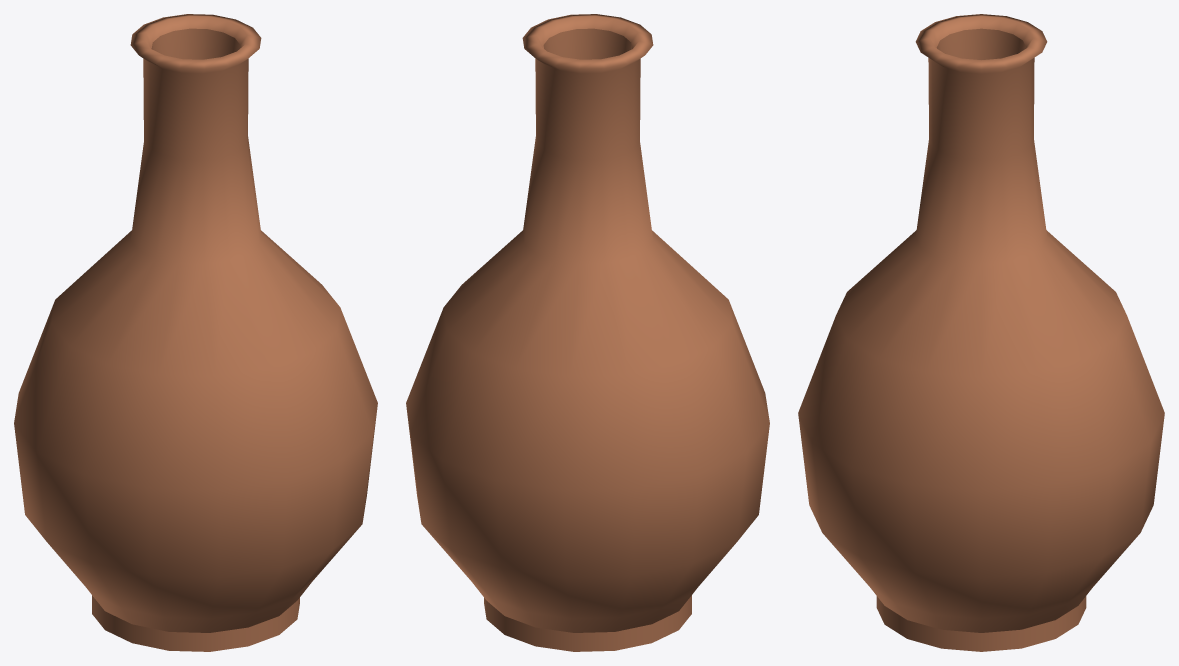
Rendered from Makkoli.fbx.
The picture shows the model from 3 angles, left to right: view 1: azimuth 30°, elevation 25°; view 2: azimuth 150°, elevation 25°; view 3: azimuth 270°, elevation 25°; orthographic projection.
Visible parts, largest first — view 1: Makkoli; view 2: Makkoli; view 3: Makkoli.
Boxes of the visible parts, <box> form: Makkoli: <box>14,14,377,651</box>; Makkoli: <box>406,14,769,651</box>; Makkoli: <box>798,14,1164,651</box>.
Bounding box in the file's own units: 1.7 × 2.9 × 1.7.
Materials: 1 (1 with a texture image).
